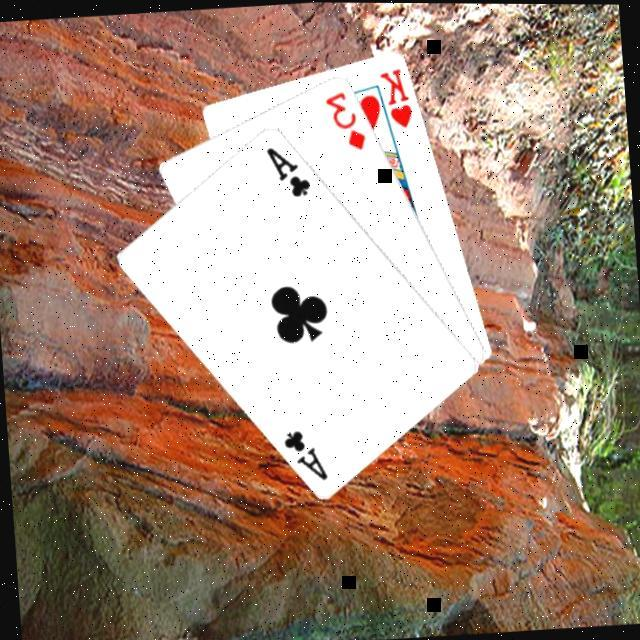3D: (320, 87, 368, 156)
AC: (261, 142, 314, 203), (279, 425, 331, 486)
KH: (375, 65, 416, 133)
